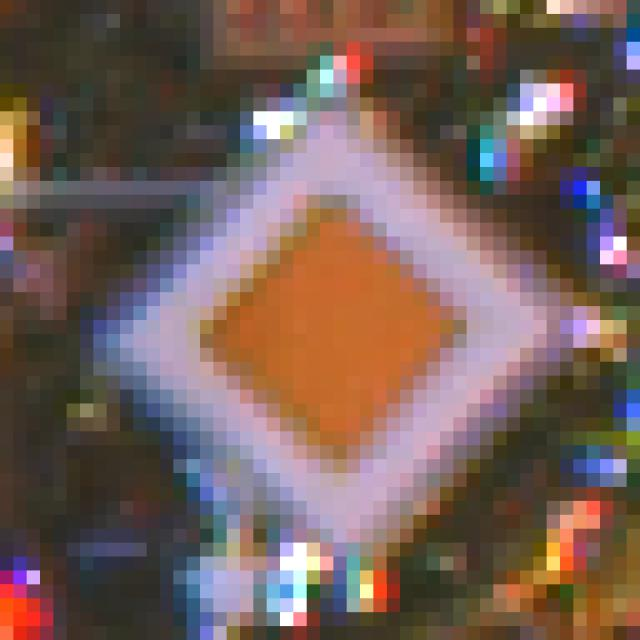Main Road: (81, 71, 574, 572)
